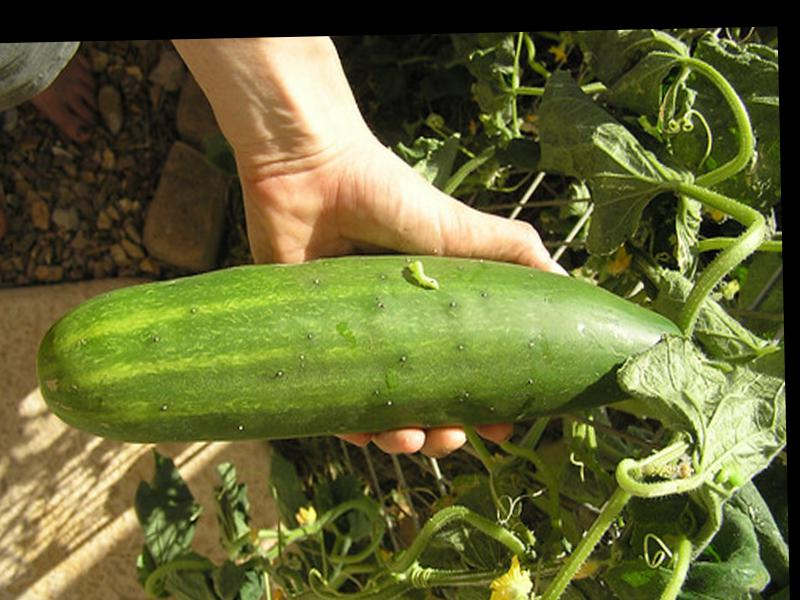Cucumber: (34, 249, 692, 447)
